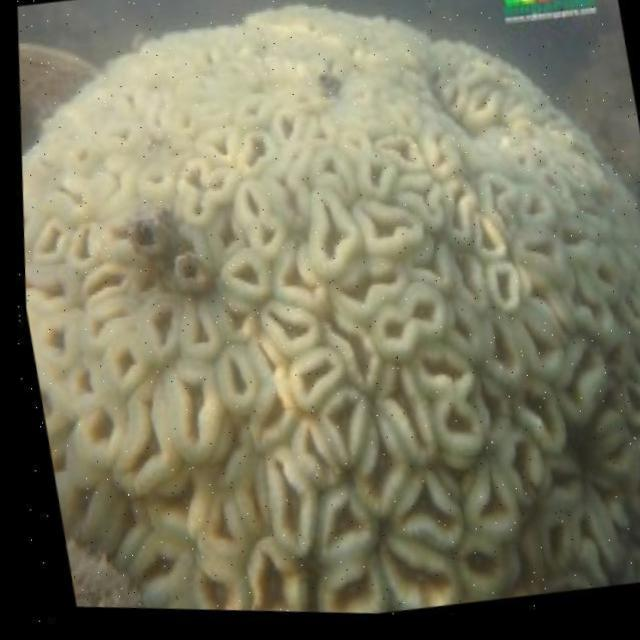Bleached Coral: (58, 4, 639, 629)
